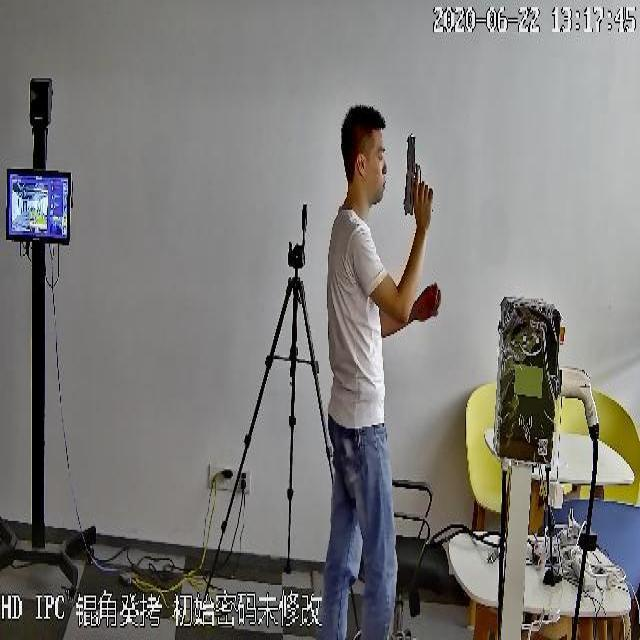pistol: (398, 128, 430, 218)
